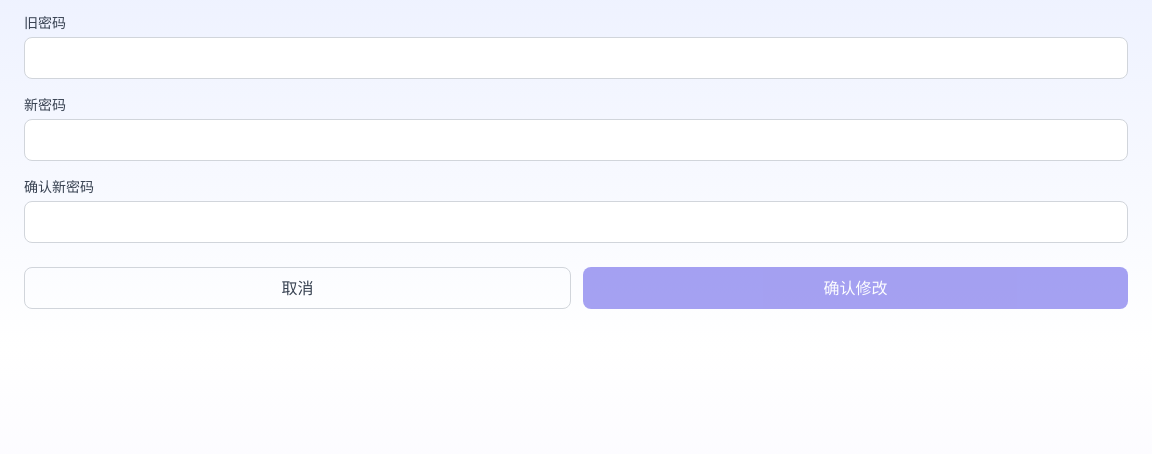
ChangePassword › REQ-AUTH-009: enables submit when all validations pass
In the password field labelled "旧密码": coordinates (576, 58) top-left (24, 37), bottom-right (1128, 79), type "OldPassword123"
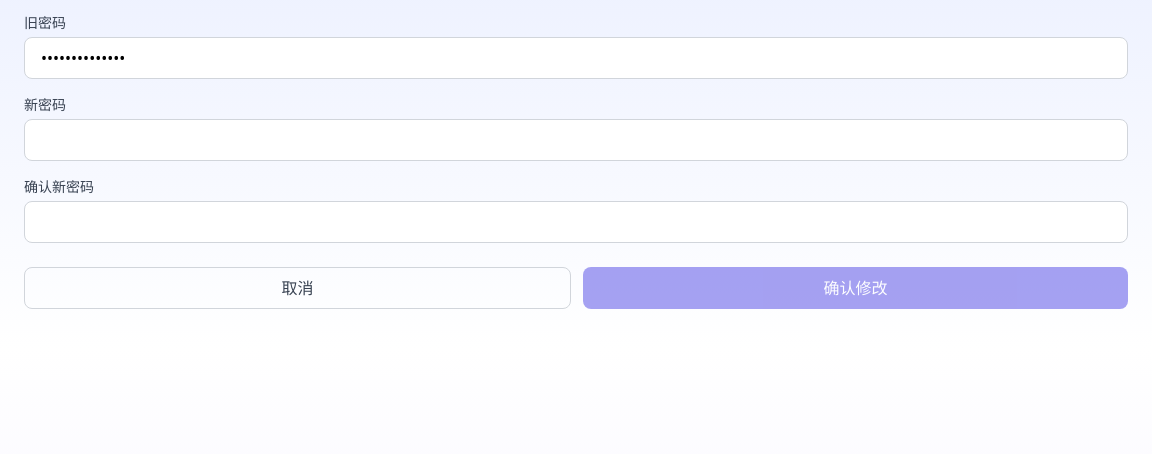
In the password field labelled "新密码": coordinates (576, 140) top-left (24, 119), bottom-right (1128, 161), type "NewPassword456"
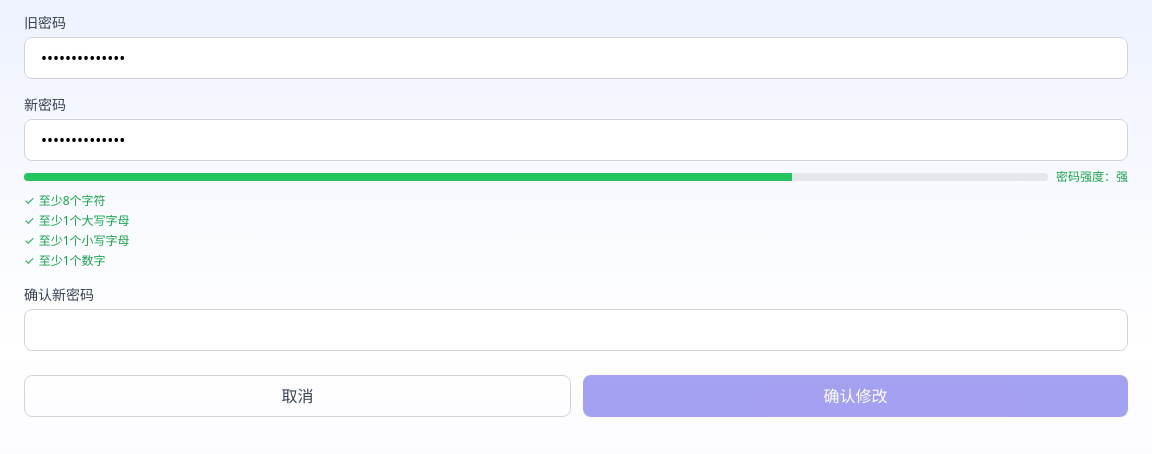
In the password field labelled "确认新密码": coordinates (576, 330) top-left (24, 309), bottom-right (1128, 351), type "NewPassword456"
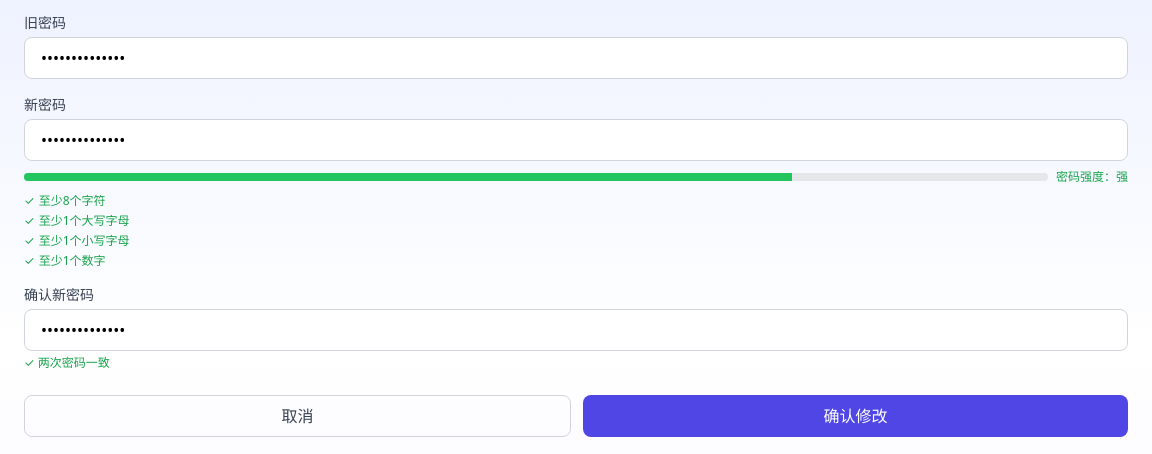
Check: the button "确认修改" is enabled, box top-left (583, 395), bottom-right (1128, 437)
